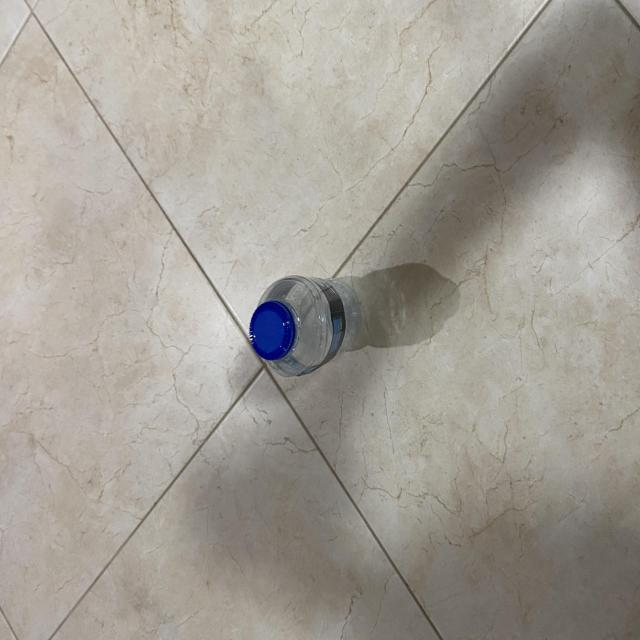bottle: (239, 266, 364, 384)
